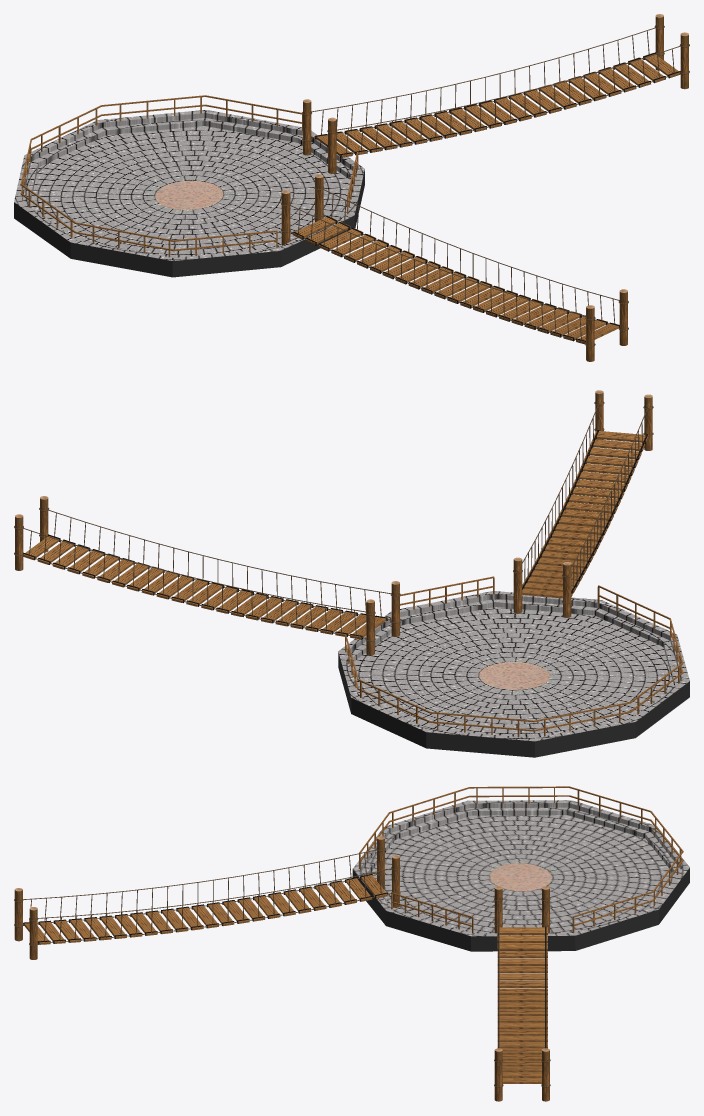
Rendered from ModeSelect.FBX.
3 renders of one model, top to bottom at view 1: azimuth 30°, elevation 25°; view 2: azimuth 150°, elevation 25°; view 3: azimuth 270°, elevation 25°, orthographic. The views are drawn at different scales.
Parts seen in each view (by area): view 1: Gengon001, Group010, Railing001; view 2: Gengon001, Group010, Railing001, Railing002; view 3: Gengon001, Group010, Railing001, Railing002, Cylinder059, Cylinder060.
Boxes of the visible parts, x1,y1,x2,y2 form: Gengon001: (14,110,364,260); Group010: (14,169,364,277); Railing001: (20,95,302,257); Gengon001: (338,591,689,741); Group010: (338,652,689,757); Railing001: (345,585,683,737); Railing002: (400,576,494,609); Gengon001: (353,800,689,936); Group010: (352,868,689,951); Railing001: (359,786,683,932); Railing002: (391,892,473,933); Cylinder059: (23,849,376,899); Cylinder060: (38,868,391,918).
Bounding box in the file's own units: 1716 × 152 × 1683.
7 materials, 5 textured.
